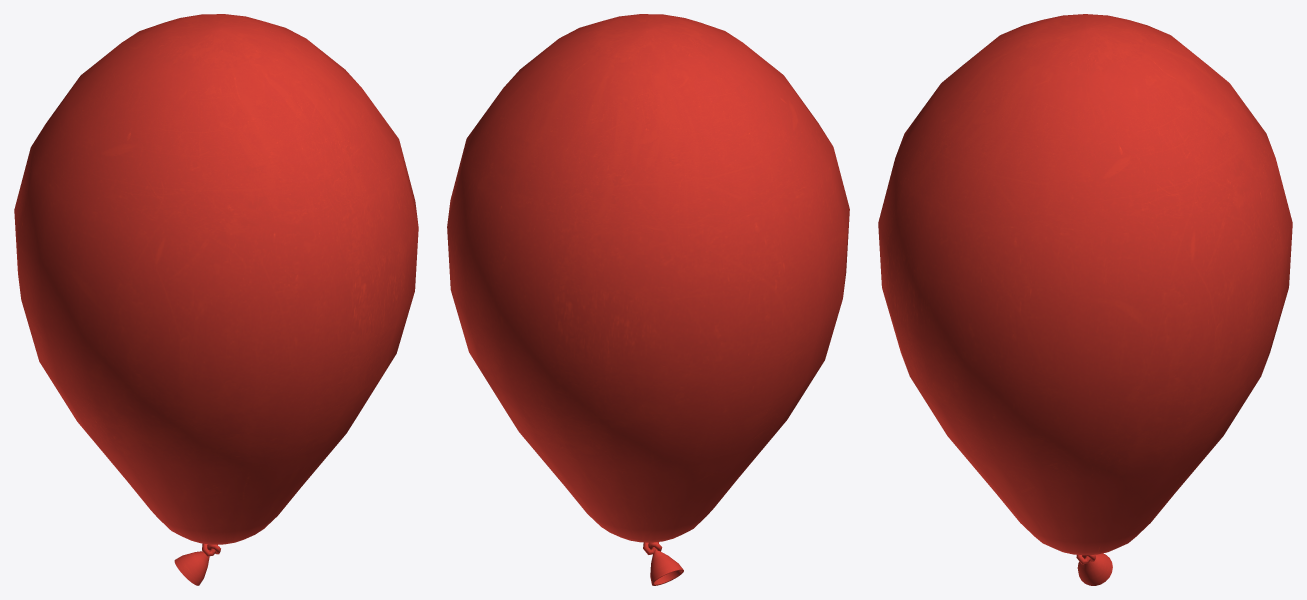
The model's file is Balloon.obj.
The picture shows the model from 3 angles, left to right: view 1: azimuth 30°, elevation 25°; view 2: azimuth 150°, elevation 25°; view 3: azimuth 270°, elevation 25°; orthographic projection. The views are drawn at different scales.
Parts seen in each view (by area): view 1: Balloon; view 2: Balloon; view 3: Balloon.
Boxes of the visible parts, x1,y1,x2,y2 form: Balloon: (14, 14, 418, 585); Balloon: (447, 14, 849, 585); Balloon: (878, 14, 1292, 585).
Size of the model in its own units: 6.74 by 10.12 by 6.74.
1 material, 1 textured.
